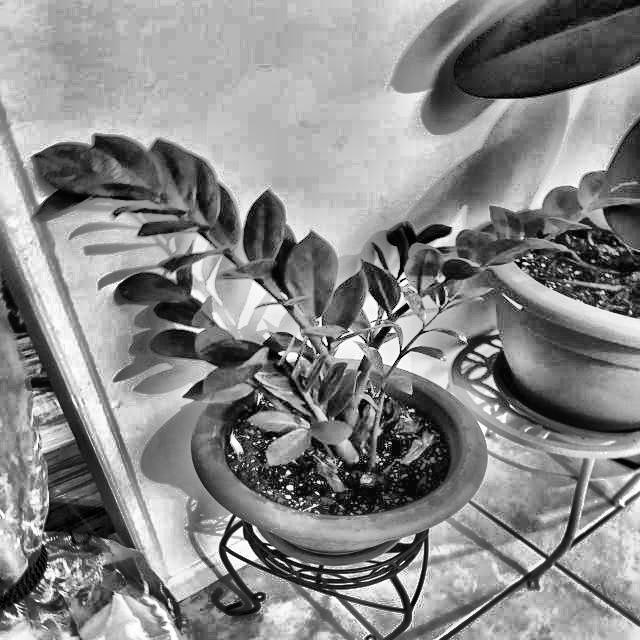plants: (34, 147, 400, 442)
